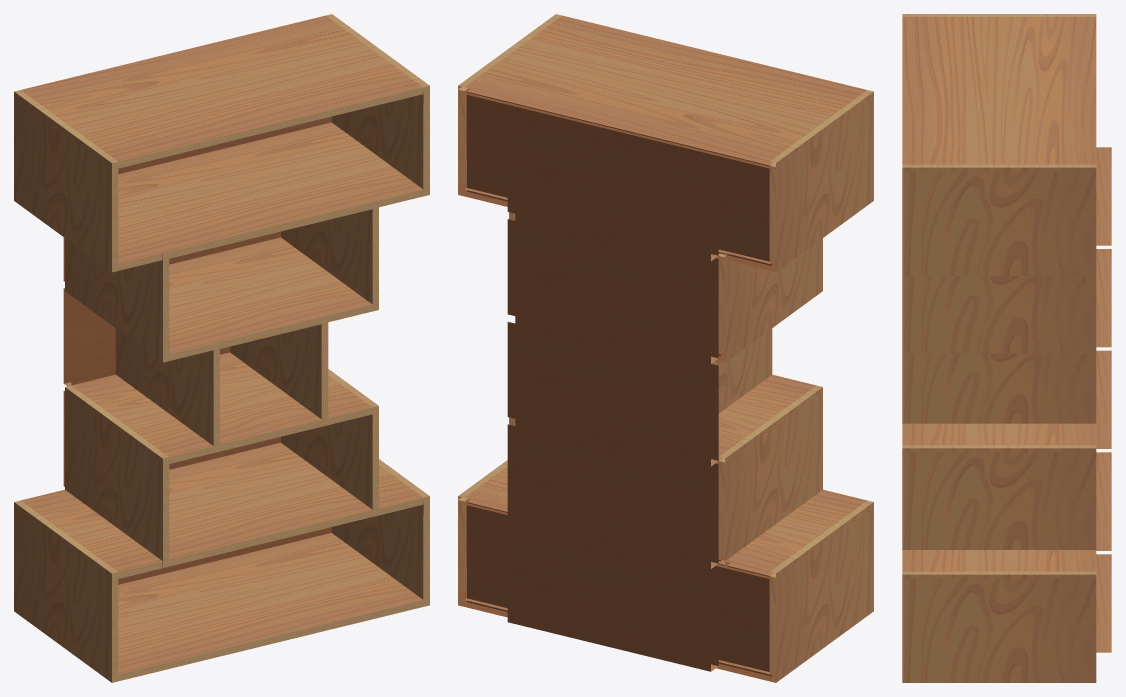
File: layout_hourglass_shape_11c.fbx
The picture shows the model from 3 angles, left to right: view 1: azimuth 30°, elevation 25°; view 2: azimuth 150°, elevation 25°; view 3: azimuth 270°, elevation 25°; orthographic projection.
Visible parts, largest first — view 1: Shelf-TM-00 3, Shelf-BM-00 4, Shelf-BM-00 3, Shelf-BM-00 2, Shelf-BM-00 1, Shelf-CL-01 2, Shelf-CL-01 4, Shelf-CL-01 3, Shelf-CL-01 1, Shelf-TM-00 4, Shelf-CL-01, Shelf-TM-00 2 (+20 smaller); view 2: Shelf-TM-00 3, Shelf-Back-00 (1) 3, Shelf-Back-00 (1), Shelf-Back-00 (1) 2, Shelf-Back-00 (1) 1, Shelf-Back-00 (1) 4, Shelf-Back-00 3, Shelf-CL-01 2, Shelf-CL-01 3, Shelf-CL-01 4, Shelf-Back-00 4, Shelf-CL-01 1 (+14 smaller); view 3: Shelf-TM-00 3, Shelf-CR-01 3, Shelf-CR-01 2, Shelf-CR-01 4, Shelf-CR-01, Shelf-CR-01 1, Shelf-TM-00 2, Shelf-TM-00 4, Shelf-Back-00 (1), Shelf-Back-00 (1) 1, Shelf-Back-00 (1) 2, Shelf-Back-00 (1) 3 (+8 smaller).
Part boxes in pixels (x1,y1,x2,y2): Shelf-TM-00 3: (21,15,423,168); Shelf-BM-00 4: (118,533,423,681); Shelf-BM-00 3: (118,122,423,270); Shelf-BM-00 2: (169,442,372,566); Shelf-BM-00 1: (169,237,372,360); Shelf-CL-01 2: (65,391,169,560); Shelf-CL-01 4: (14,506,118,675); Shelf-CL-01 3: (14,96,118,265); Shelf-CL-01 1: (65,238,169,355); Shelf-TM-00 4: (20,465,423,578); Shelf-CL-01: (115,328,219,445); Shelf-TM-00 2: (71,374,372,463); Shelf-TM-00 3: (465,15,866,168); Shelf-Back-00 (1) 3: (507,111,718,261); Shelf-Back-00 (1): (507,316,718,466); Shelf-Back-00 (1) 2: (507,419,718,568); Shelf-Back-00 (1) 1: (507,213,718,363); Shelf-Back-00 (1) 4: (507,521,718,671); Shelf-Back-00 3: (466,89,772,265); Shelf-CL-01 2: (718,391,822,560); Shelf-CL-01 3: (769,98,873,265); Shelf-CL-01 4: (769,509,873,675); Shelf-Back-00 4: (466,499,773,676); Shelf-CL-01 1: (718,238,822,355); Shelf-TM-00 3: (902,17,1096,164); Shelf-CR-01 3: (902,171,1096,269); Shelf-CR-01 2: (902,452,1096,549); Shelf-CR-01 4: (902,578,1096,675); Shelf-CR-01: (902,353,1096,423); Shelf-CR-01 1: (902,276,1096,346); Shelf-TM-00 2: (902,423,1096,445); Shelf-TM-00 4: (902,550,1096,571); Shelf-Back-00 (1): (1096,350,1111,448); Shelf-Back-00 (1) 1: (1096,249,1111,347); Shelf-Back-00 (1) 2: (1096,452,1111,550); Shelf-Back-00 (1) 3: (1096,147,1111,245).
Bounding box in the file's own units: 150 × 234 × 86.3.
